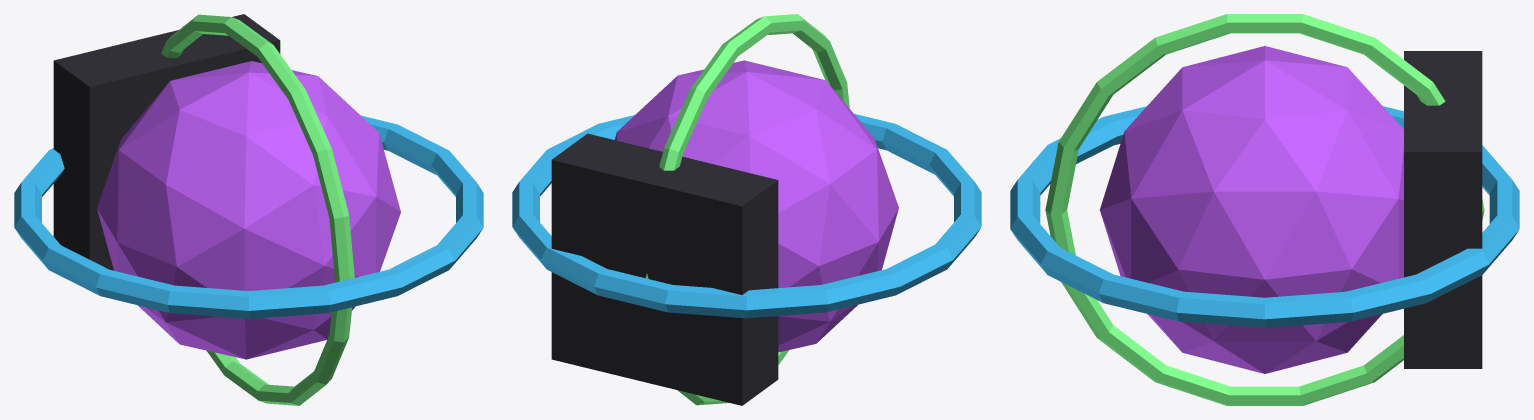
The model's file is glowing_logic_node.glb.
3 views of the same model, side by side, from view 1: azimuth 30°, elevation 25°; view 2: azimuth 150°, elevation 25°; view 3: azimuth 270°, elevation 25° (orthographic). The views are drawn at different scales.
Parts seen in each view (by area): view 1: core, ringA, base, ringB; view 2: base, core, ringA, ringB; view 3: core, ringA, base, ringB.
Boxes of the visible parts, box(x1,y1,x2,y2) form: core: box(97, 61, 400, 359); ringA: box(14, 115, 483, 318); base: box(53, 14, 280, 270); ringB: box(161, 14, 354, 405); base: box(551, 133, 778, 405); core: box(614, 60, 898, 352); ringA: box(512, 113, 981, 318); ringB: box(645, 14, 849, 405); core: box(1100, 46, 1403, 373); ringA: box(1010, 106, 1519, 327); base: box(1404, 51, 1482, 368); ringB: box(1045, 14, 1484, 405).
Size of the model in its own units: 1.19 by 0.9947 by 1.17.
